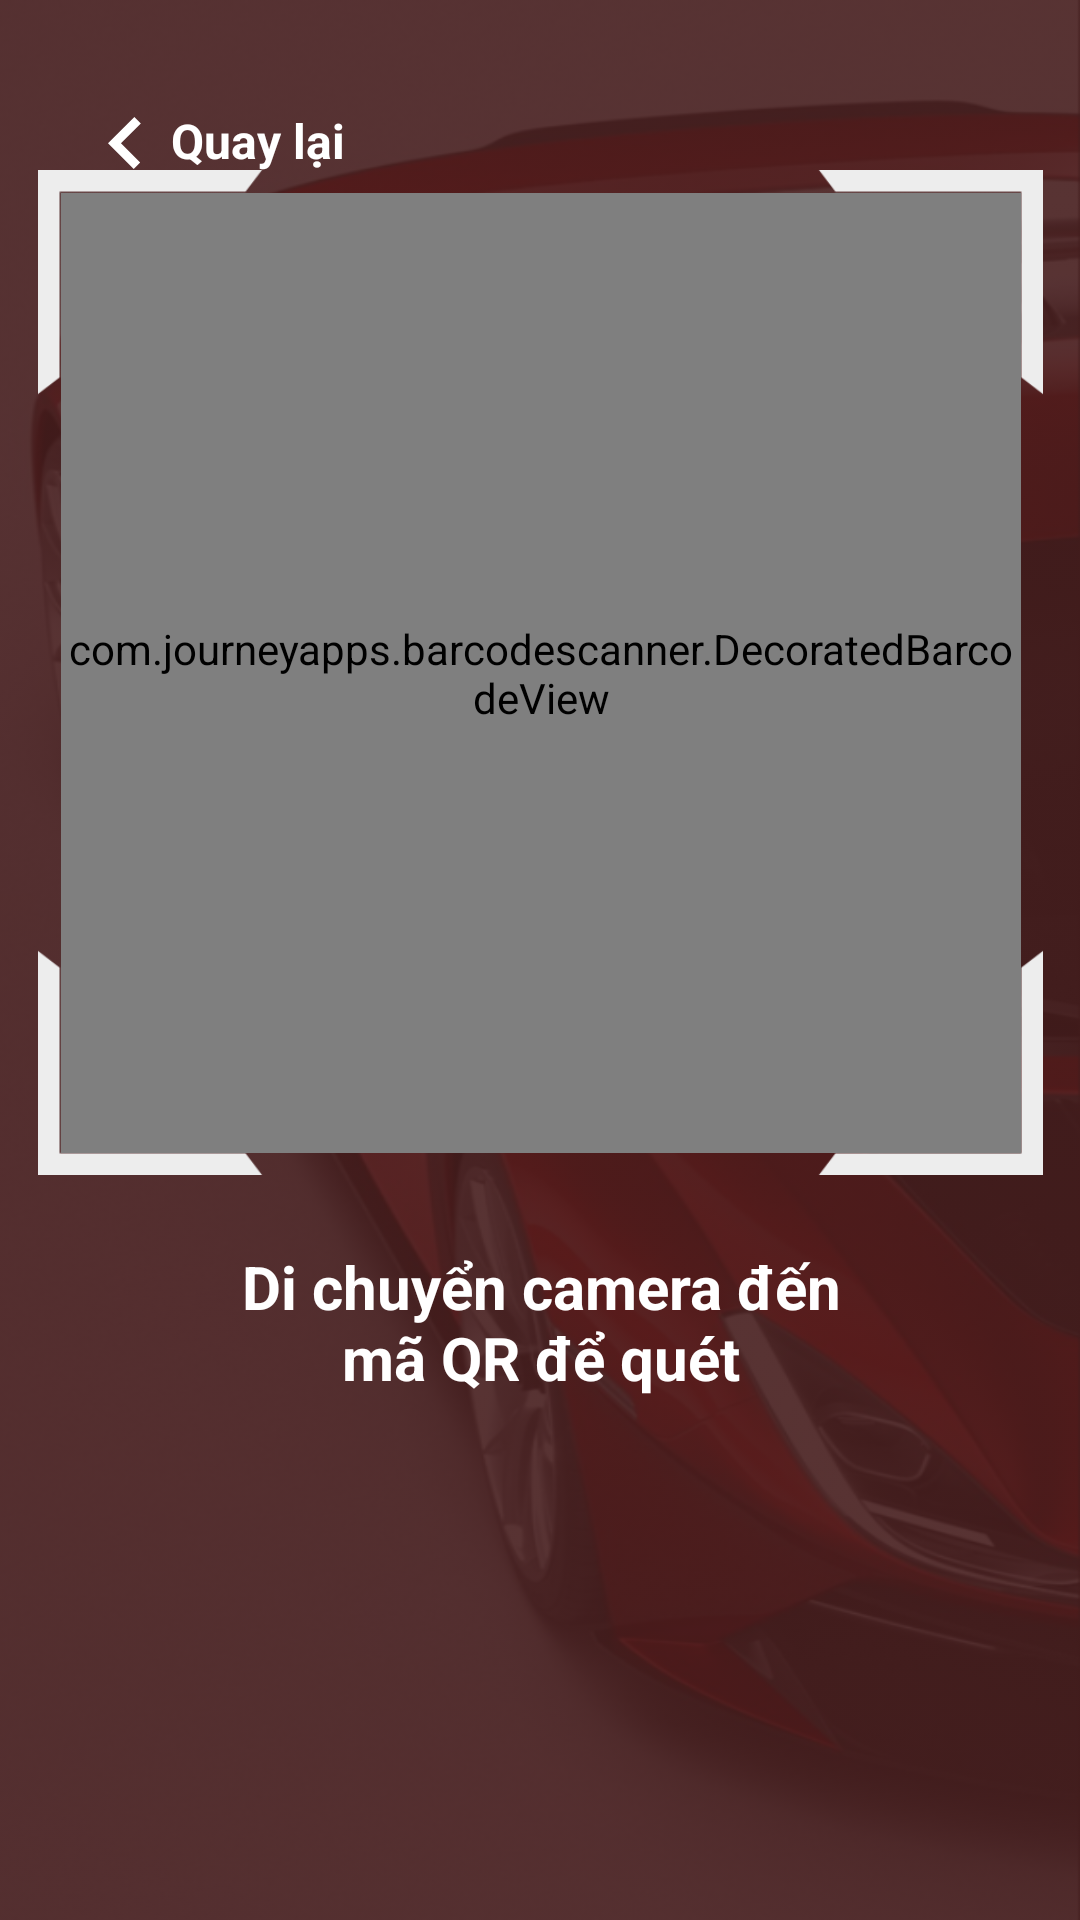

Point at icon controls on the screen. Image size 1080×1920, points as [x,y].
back: [124,143]
